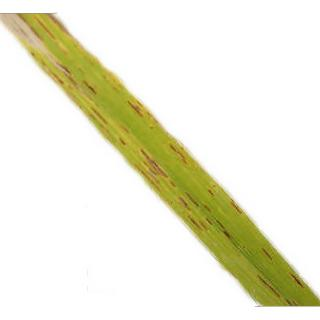Bercak-Cokelat-Sempit: (137, 144, 188, 193), (180, 186, 223, 241), (50, 59, 100, 100), (47, 10, 86, 43), (124, 90, 154, 126), (252, 275, 284, 306), (84, 109, 113, 136), (287, 270, 312, 288), (258, 242, 276, 264), (231, 200, 247, 220)
